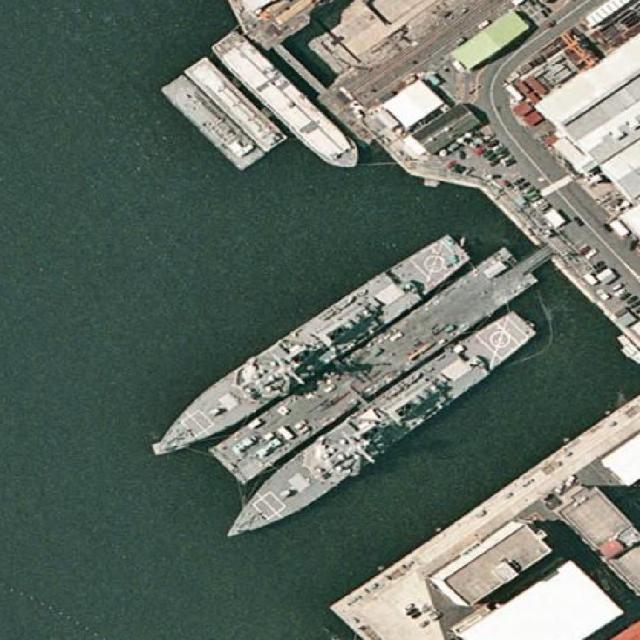Destroyer: (140, 225, 476, 473), (213, 303, 540, 553)
Other Ship: (206, 25, 367, 180)
